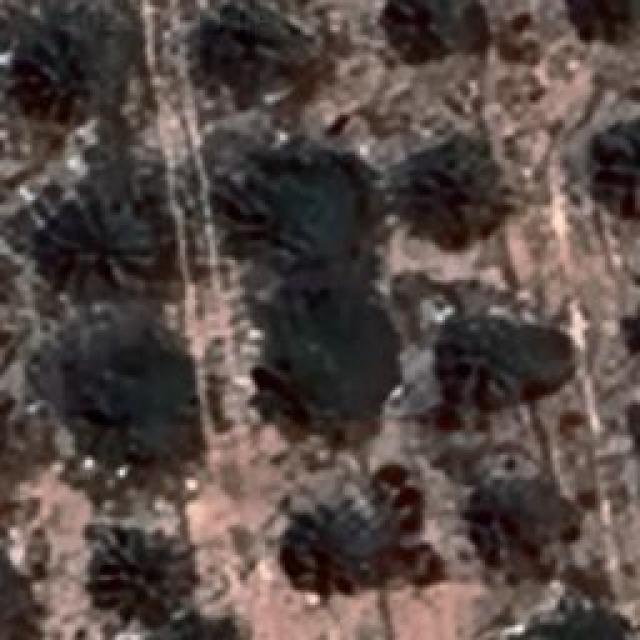PalmTree: (53, 87, 614, 177), (71, 19, 604, 87), (42, 328, 182, 462), (275, 496, 400, 602), (398, 148, 512, 262), (275, 324, 375, 444), (48, 197, 160, 295), (90, 530, 195, 628), (436, 325, 554, 403), (212, 174, 326, 254), (209, 21, 289, 104), (471, 486, 554, 564), (381, 0, 459, 65), (32, 40, 86, 118), (520, 608, 636, 640), (0, 551, 31, 640), (145, 617, 248, 640), (0, 551, 20, 640), (144, 623, 245, 640), (622, 285, 640, 369)
